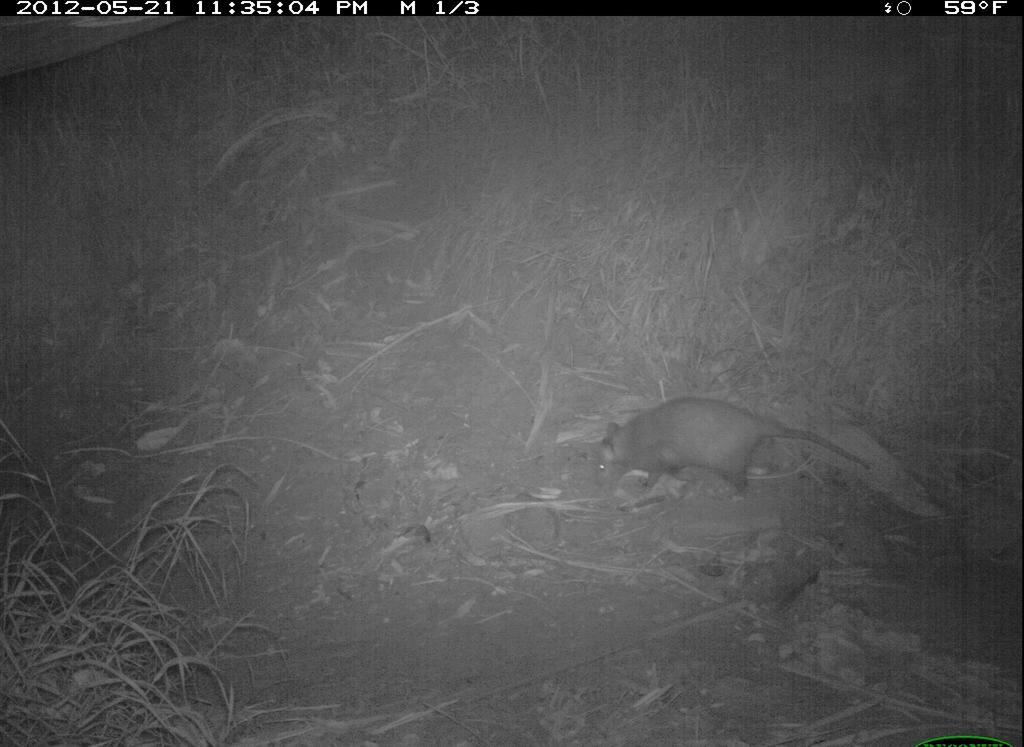opossum: (591, 390, 877, 509)
